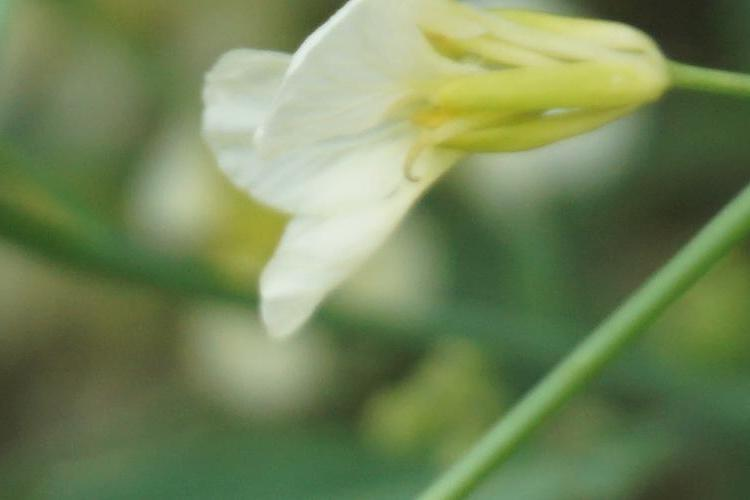white: (194, 11, 670, 343)
